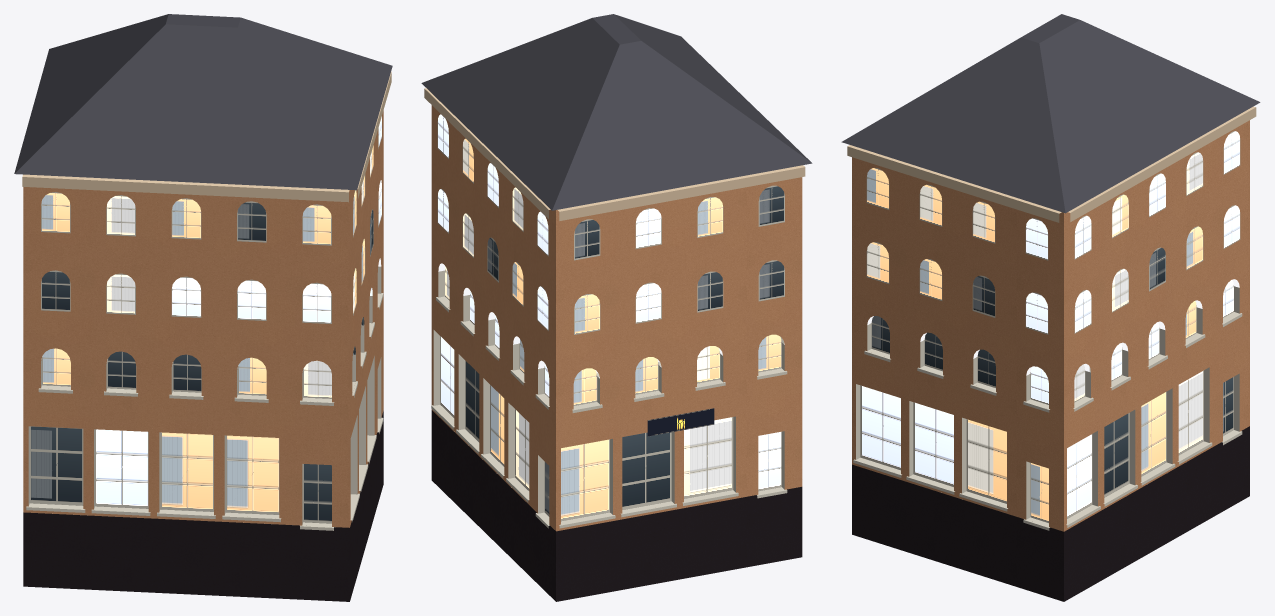
The model's file is langC_monroe.glb.
3 renders of one model, left to right at view 1: azimuth 30°, elevation 25°; view 2: azimuth 150°, elevation 25°; view 3: azimuth 270°, elevation 25°, orthographic. The views are drawn at different scales.
Parts seen in each view (by area): view 1: langC_monroe; view 2: langC_monroe; view 3: langC_monroe.
Part boxes in pixels (bbox=[...]): langC_monroe: bbox=[14, 14, 392, 601]; langC_monroe: bbox=[421, 14, 812, 601]; langC_monroe: bbox=[841, 14, 1260, 601].
Size of the model in its own units: 16.72 by 20.81 by 16.26.
Materials: 3 (3 with a texture image).
